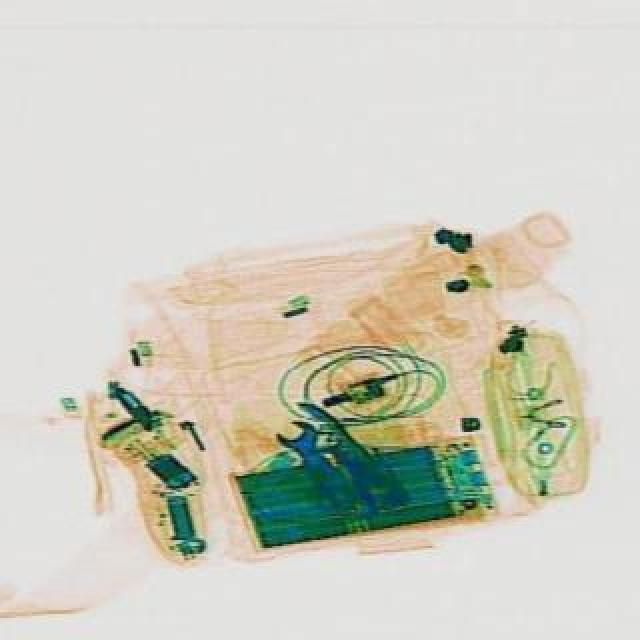knife: (286, 392, 414, 516)
scissors: (268, 412, 356, 510)
